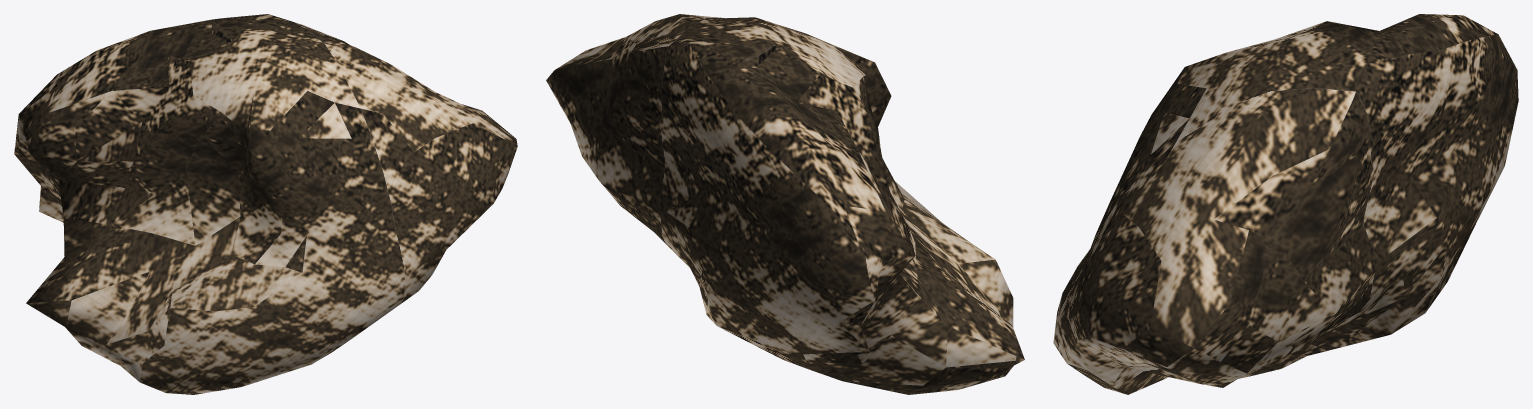
File: asteroidHard.FBX
3 renders of one model, left to right at view 1: azimuth 30°, elevation 25°; view 2: azimuth 150°, elevation 25°; view 3: azimuth 270°, elevation 25°, orthographic. The views are drawn at different scales.
Visible parts, largest first — view 1: GeoSphere01; view 2: GeoSphere01; view 3: GeoSphere01.
Boxes of the visible parts, x1,y1,x2,y2 form: GeoSphere01: [14, 14, 517, 394]; GeoSphere01: [546, 14, 1024, 394]; GeoSphere01: [1053, 14, 1518, 394].
Size of the model in its own units: 161 by 101 by 109.
1 material, 1 textured.
